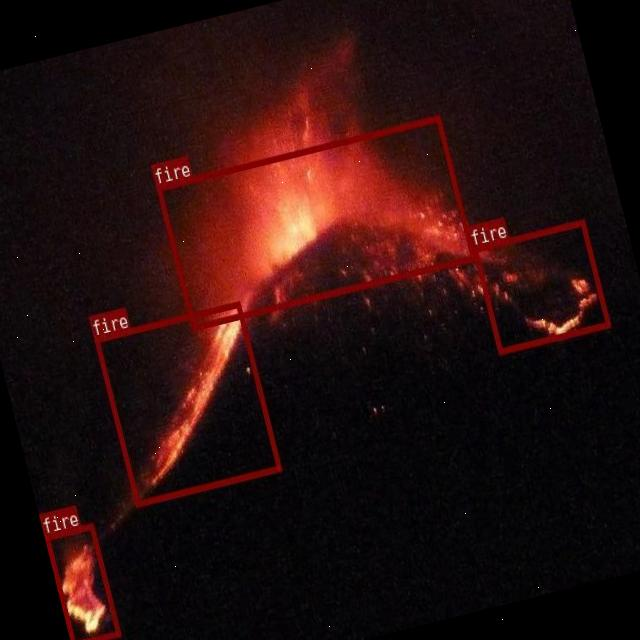fire: (156, 114, 474, 330), (93, 300, 280, 506), (472, 218, 610, 354), (43, 521, 119, 640)
